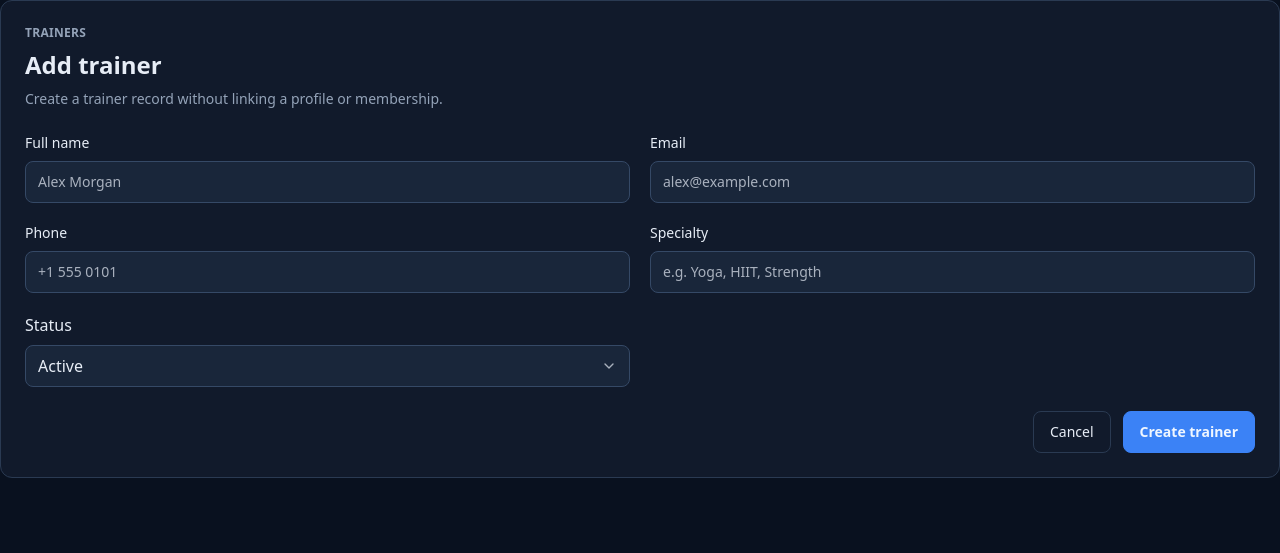
Test: CreateTrainerForm › renders action-level failure message
Type "Sam Coach" into the field labelled "Full name" at {"x": 328, "y": 182}, box [25, 161, 630, 203]
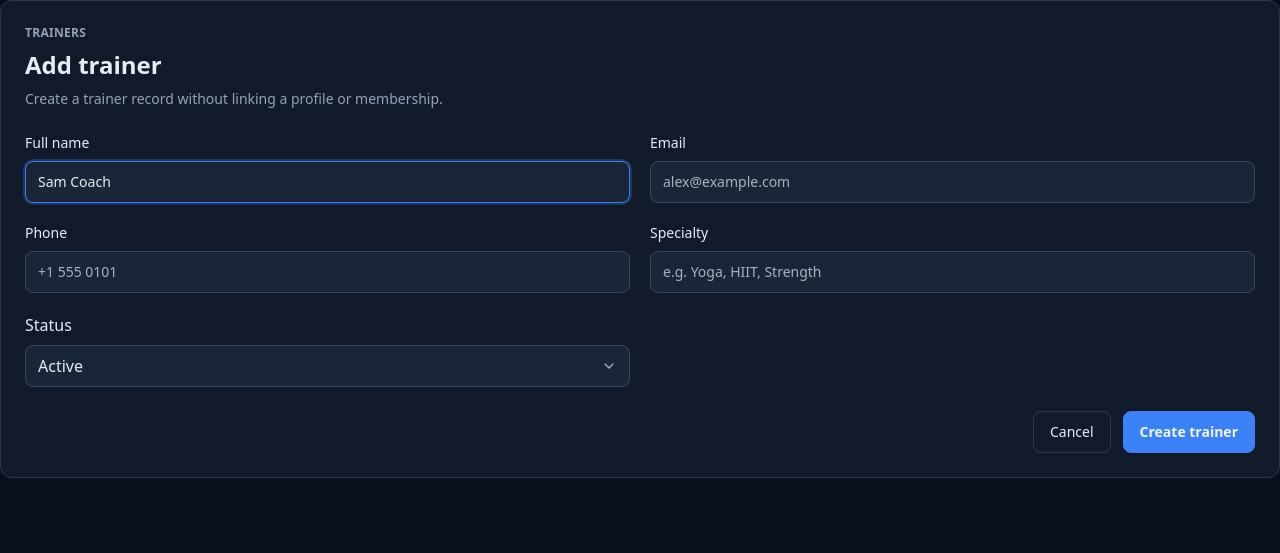
Type "sam@example.com" into the field labelled "Email" at {"x": 952, "y": 182}, box [650, 161, 1255, 203]
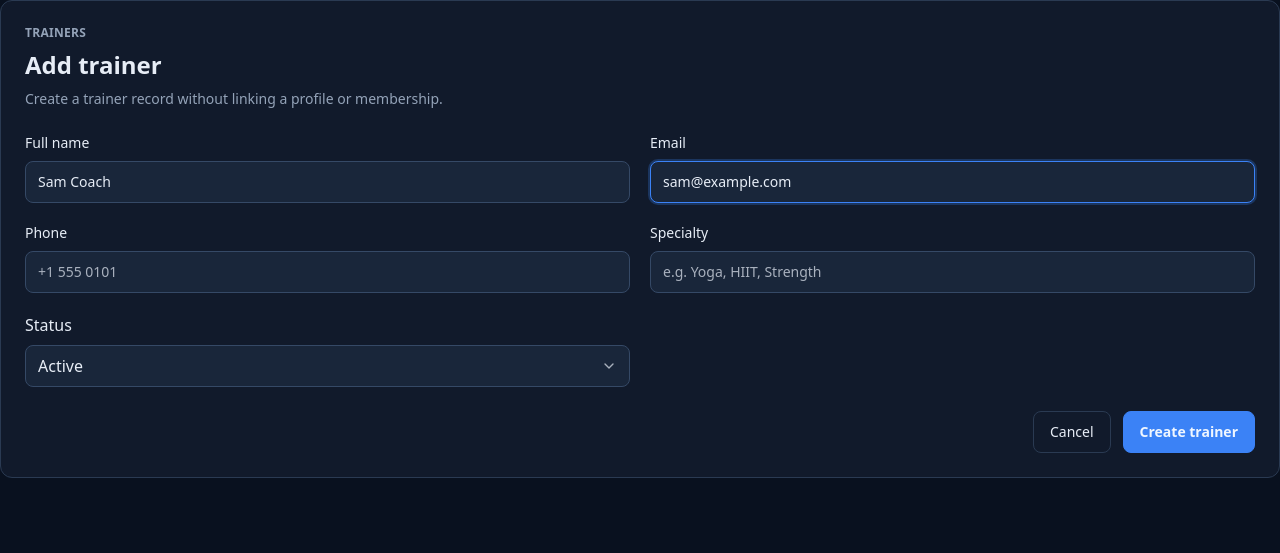
Click the button "Create trainer" at {"x": 1189, "y": 432}, box [1123, 411, 1255, 453]
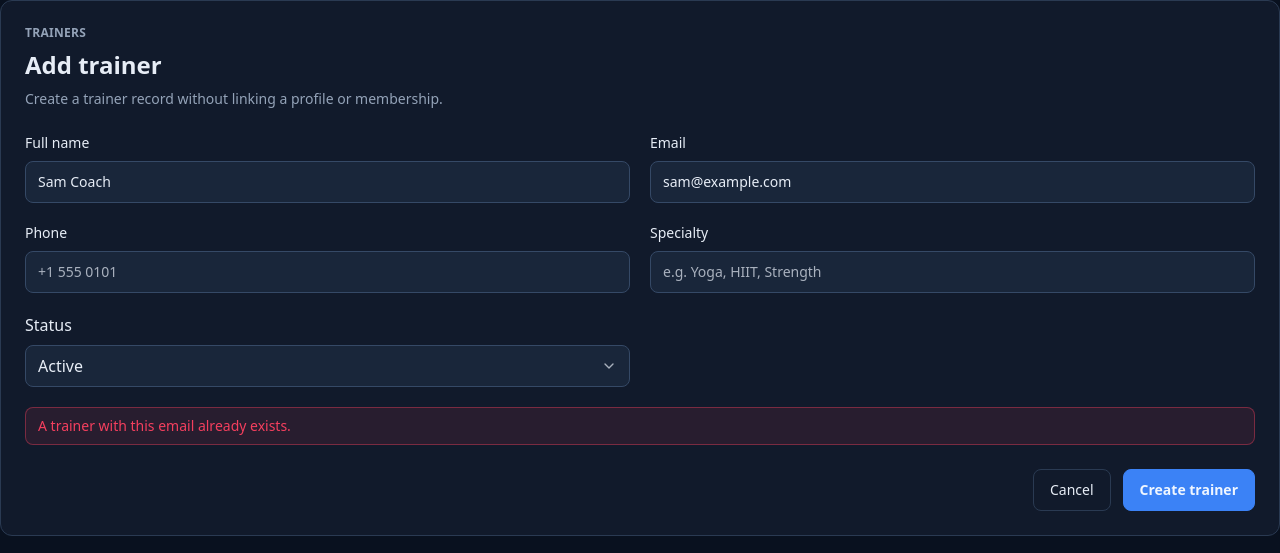
expect the message reads "A trainer with this email already exists.": met, box [38, 416, 291, 435]
